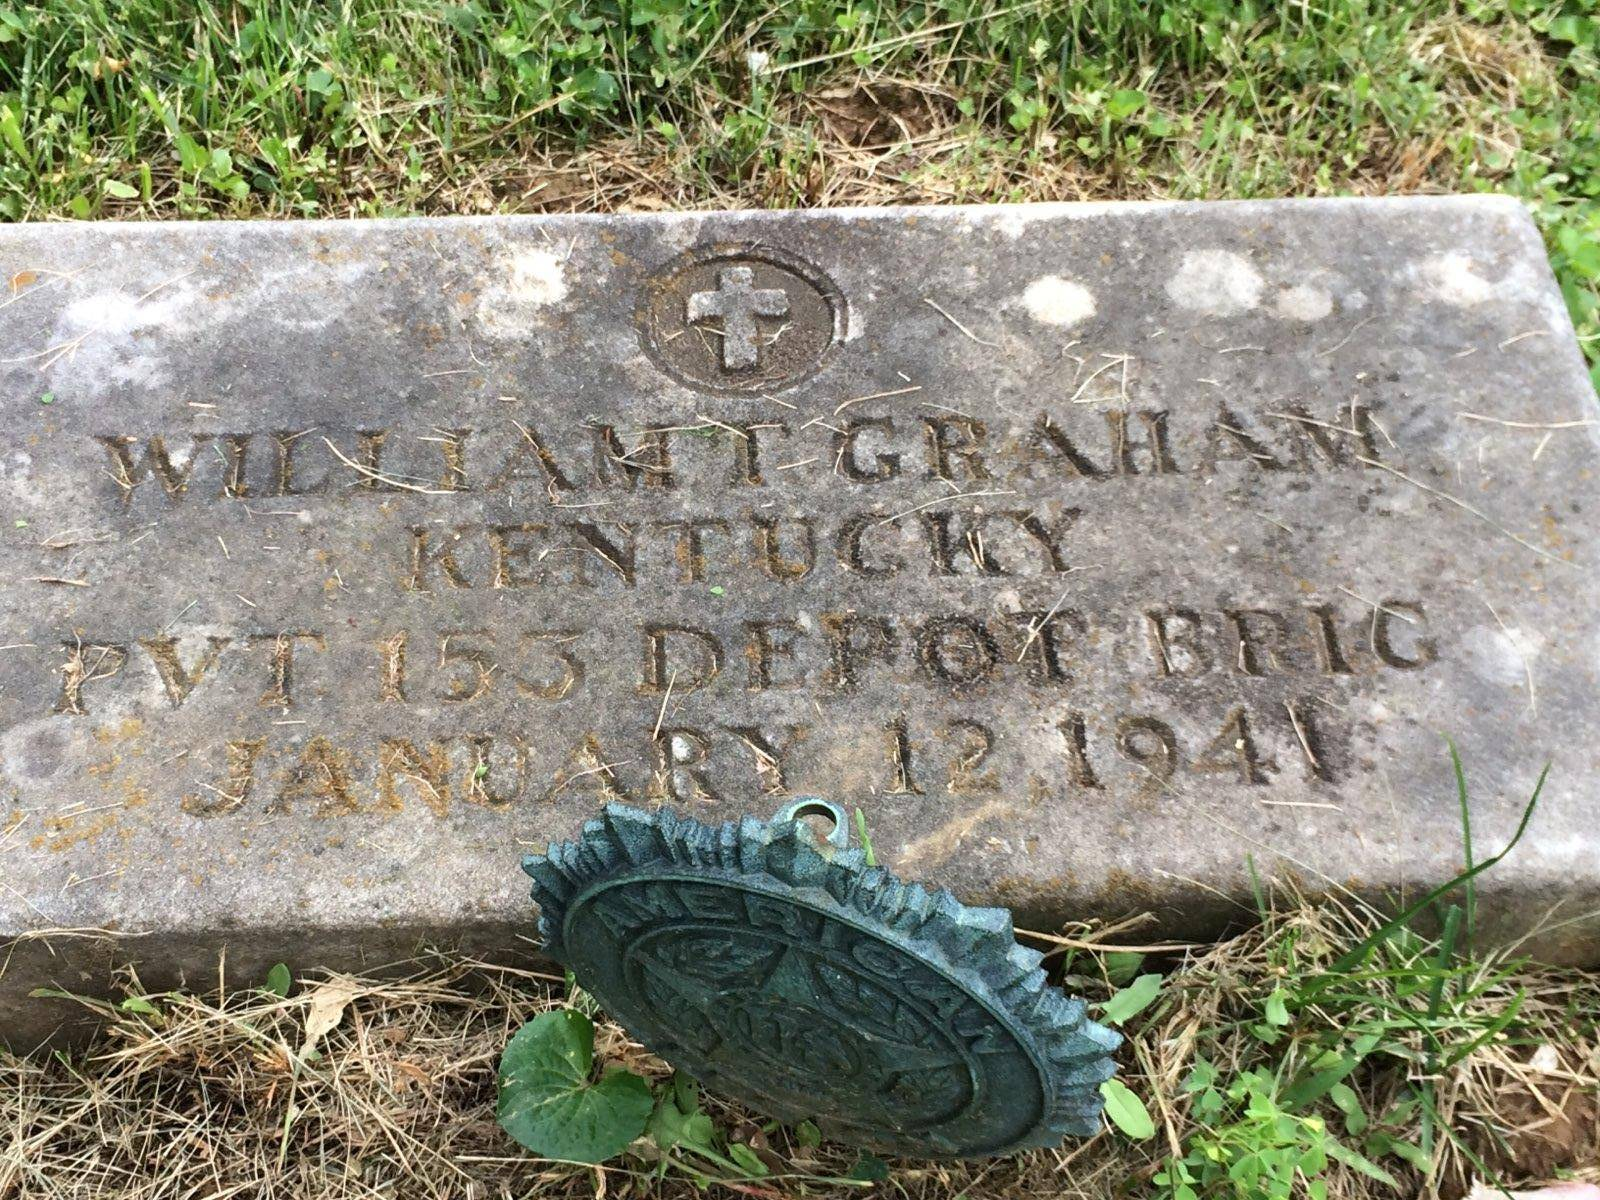flat: (0, 188, 1600, 932)
